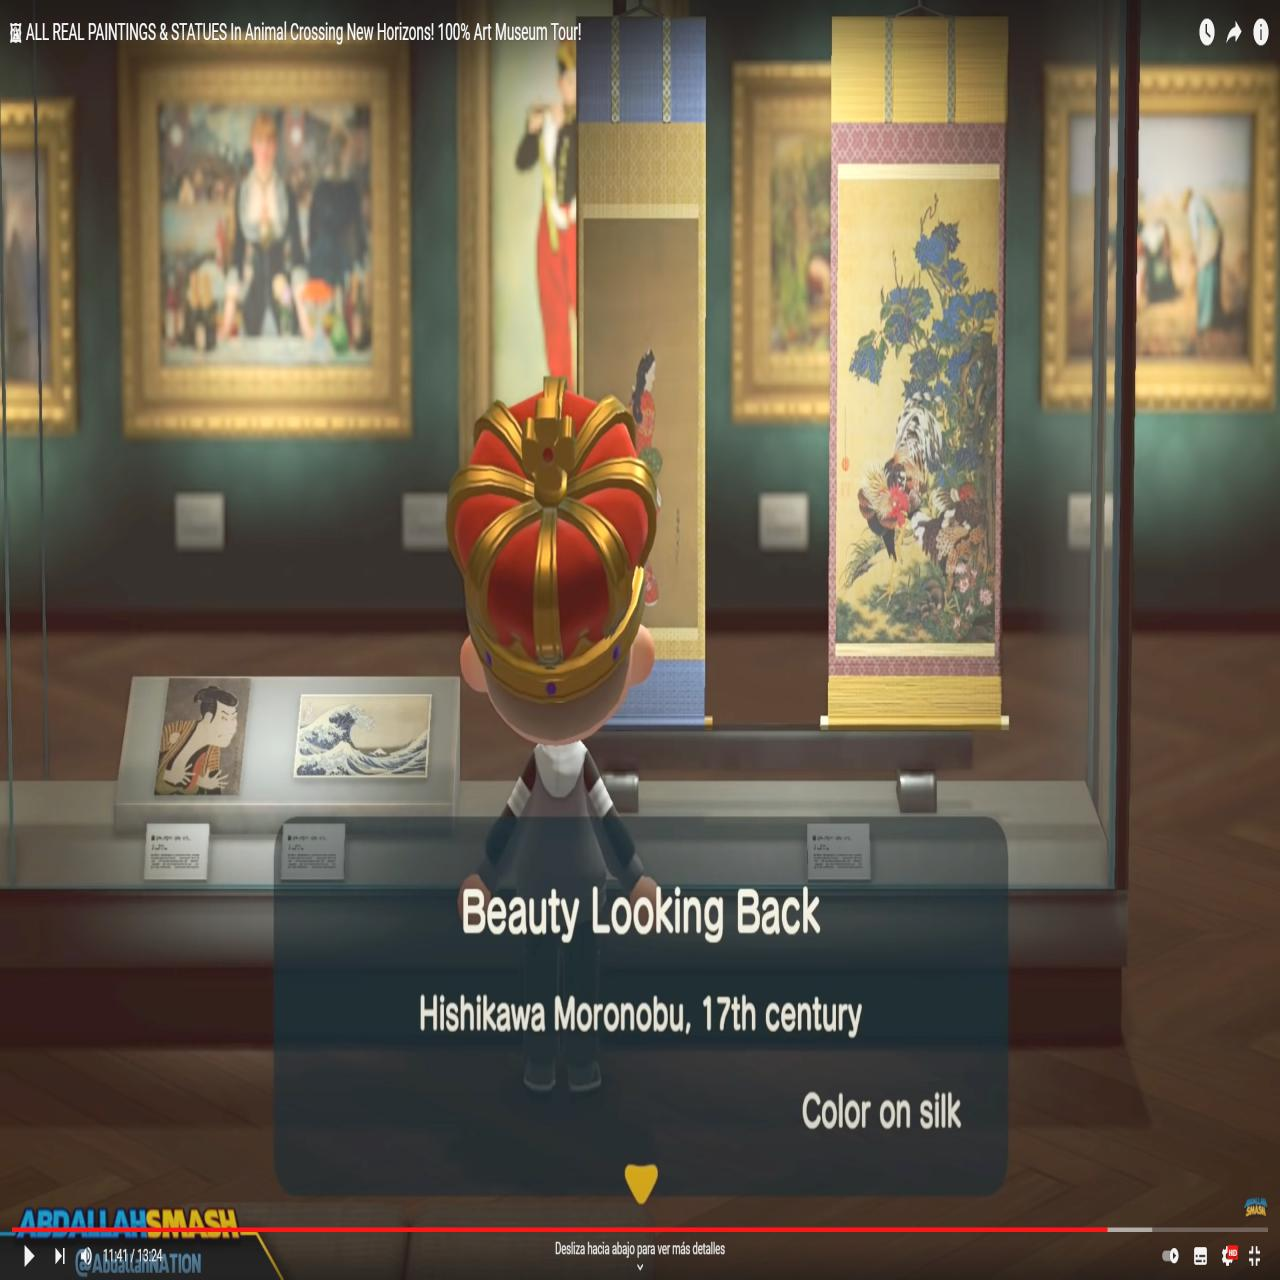Ajisaisoukeizu: (838, 169, 996, 658)
BarFB: (162, 104, 376, 362)
Gleaners: (1068, 123, 1251, 365)
Kanagawa: (295, 696, 434, 781)
Mikaeri: (588, 225, 700, 629)
OotaniOniji: (156, 679, 251, 796)
